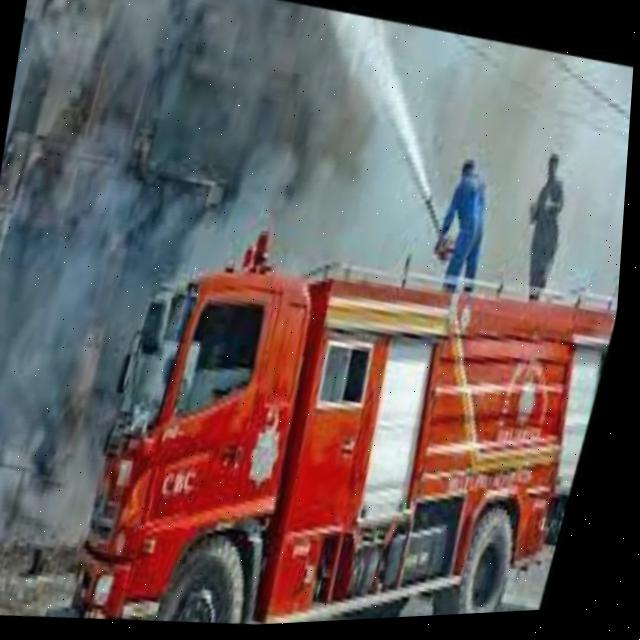emergency: (51, 232, 626, 637)
